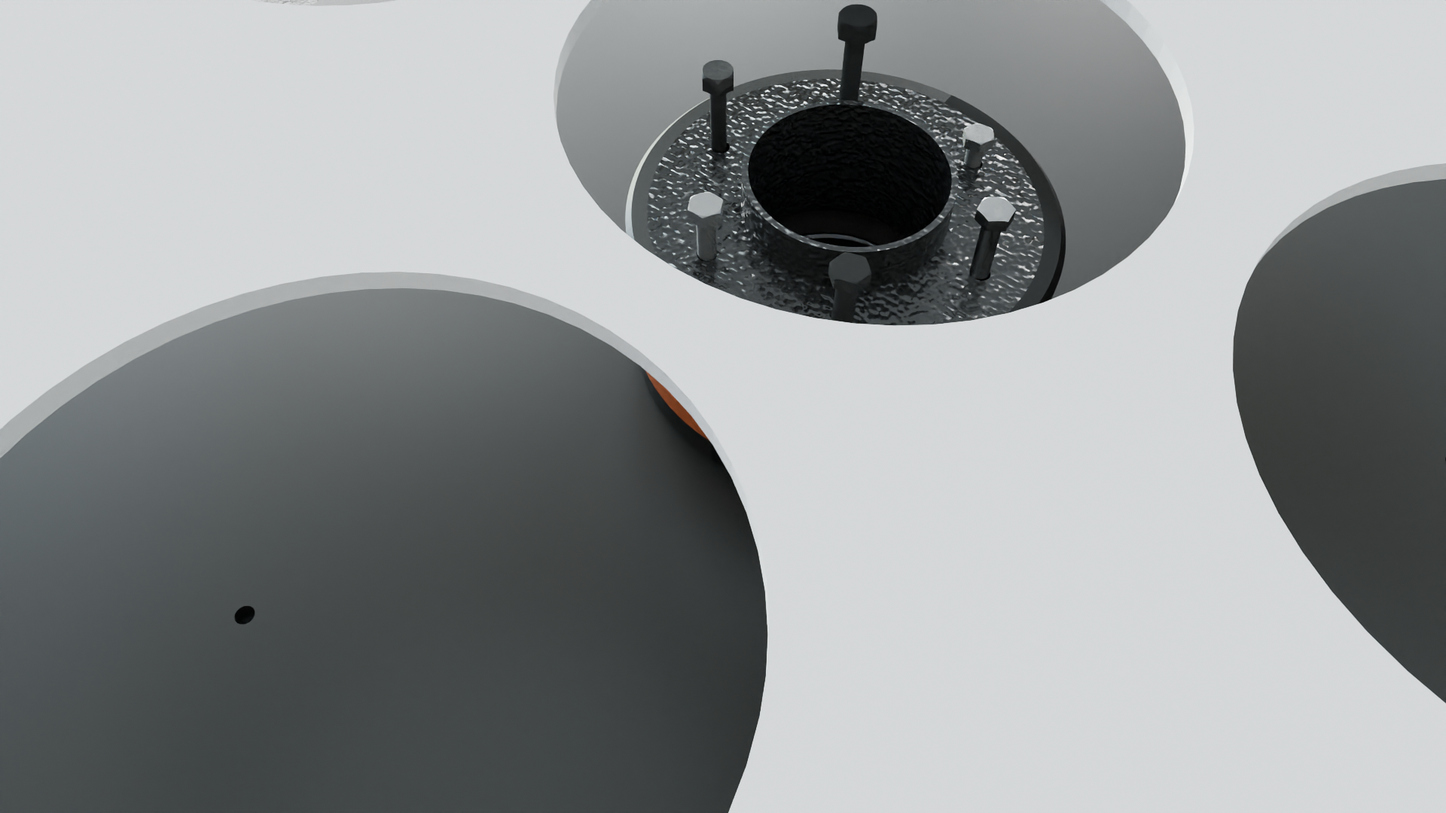bolt: (830, 252, 871, 285), (839, 4, 877, 32), (977, 197, 1016, 222), (688, 192, 723, 219), (702, 60, 734, 85), (964, 123, 994, 145)
